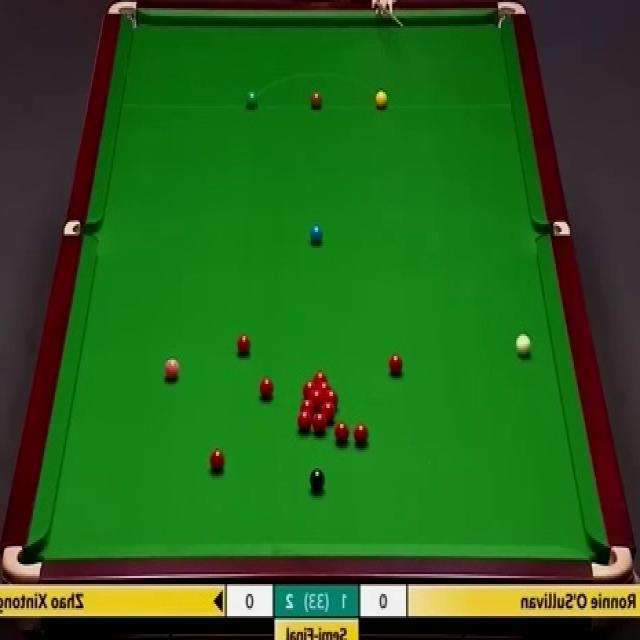black-ball: (309, 468, 325, 492)
blue-ball: (308, 223, 324, 246)
brown-ball: (310, 91, 322, 110)
green-ball: (246, 90, 258, 109)
pink-ball: (163, 355, 180, 380)
red-ball: (209, 447, 226, 475), (354, 421, 369, 448), (388, 353, 404, 377), (311, 412, 327, 435), (259, 376, 274, 399), (334, 422, 348, 445), (298, 410, 312, 433), (236, 334, 252, 354), (320, 402, 335, 421), (322, 388, 339, 402), (300, 400, 317, 412), (302, 382, 317, 394), (312, 371, 328, 382), (310, 390, 324, 402), (315, 381, 331, 390)
white-ball: (516, 332, 532, 356)
yellow-ball: (376, 88, 387, 110)
